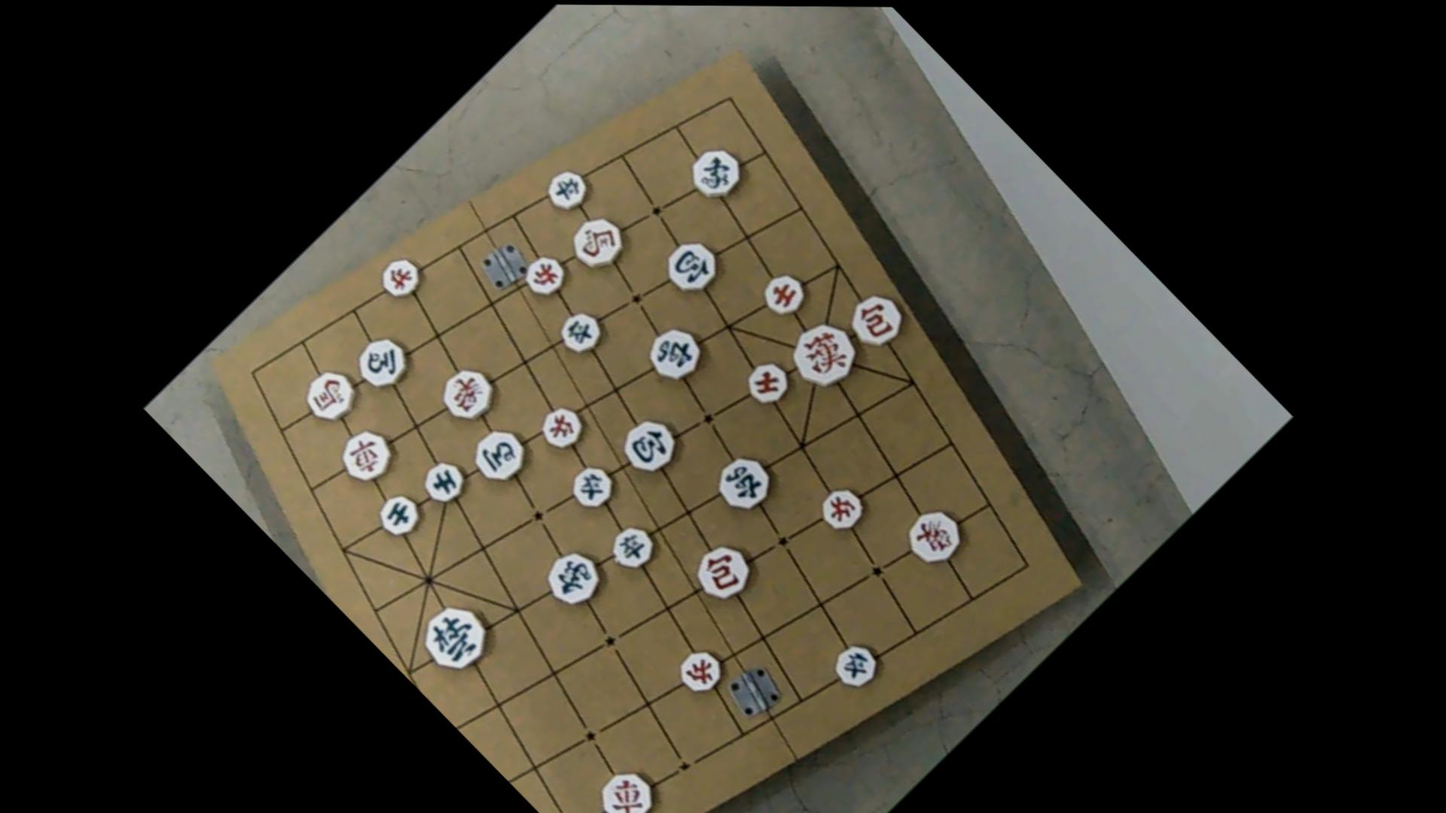cha_green: (708, 446, 779, 516), (638, 320, 708, 389)
cha_red: (328, 422, 398, 490), (592, 762, 663, 813)
jol_green: (825, 638, 883, 694), (554, 303, 611, 358), (605, 520, 660, 575), (567, 456, 623, 510), (541, 161, 596, 215)
jol_red: (813, 478, 871, 535), (670, 645, 728, 701), (534, 401, 589, 455), (374, 251, 428, 304), (520, 248, 573, 300)
ma_green: (466, 420, 533, 486), (347, 330, 413, 395)
ma_red: (564, 206, 633, 273), (299, 362, 365, 427)
po_green: (614, 412, 684, 481), (658, 232, 726, 298)
po_red: (688, 535, 762, 607), (840, 286, 910, 355)
sa_green: (414, 453, 471, 510), (371, 489, 425, 543)
sa_red: (755, 266, 812, 322), (739, 354, 795, 410)
sang_green: (535, 542, 608, 614), (679, 139, 746, 204)
sang_red: (899, 501, 970, 571), (432, 358, 502, 427)
wang_green: (413, 596, 498, 681)
wang_red: (780, 312, 866, 397)
